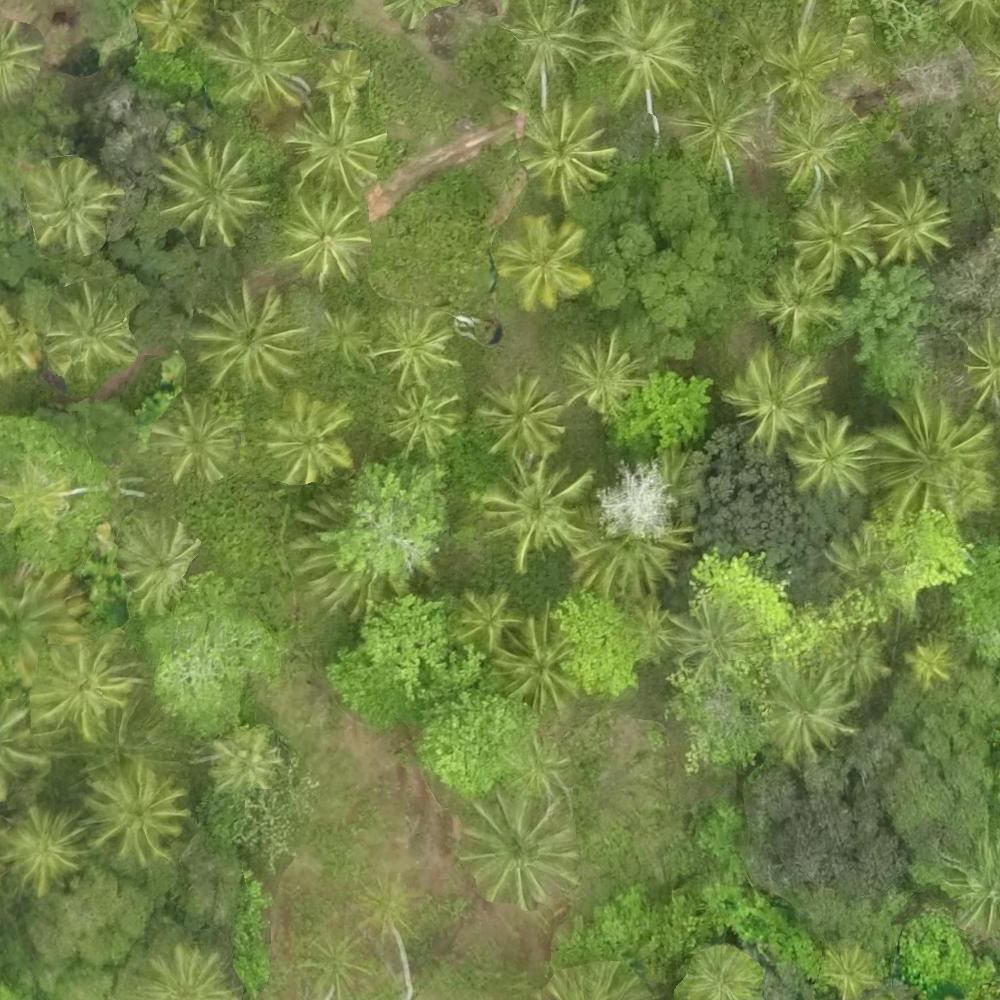not palm: (638, 194, 708, 265), (741, 797, 812, 863), (921, 733, 996, 795), (416, 708, 486, 772), (721, 506, 794, 567), (411, 190, 477, 257), (709, 866, 779, 927), (843, 786, 912, 845), (168, 642, 233, 704), (615, 880, 685, 936), (348, 662, 411, 724), (26, 925, 87, 989), (408, 71, 471, 132), (74, 79, 140, 135), (913, 111, 971, 162), (93, 895, 147, 946)
